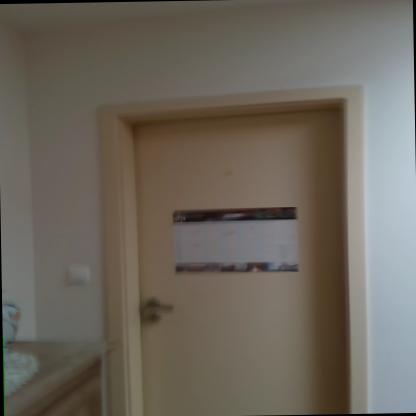closed: (66, 74, 390, 406)
